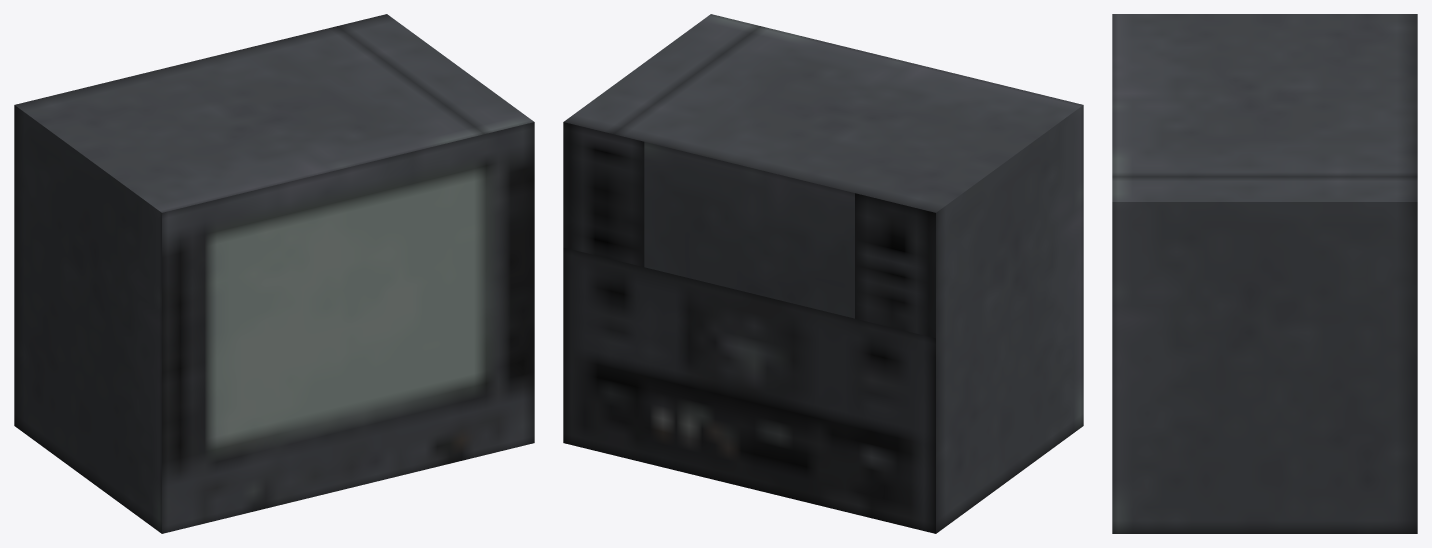
The picture shows the model from 3 angles, left to right: view 1: azimuth 30°, elevation 25°; view 2: azimuth 150°, elevation 25°; view 3: azimuth 270°, elevation 25°; orthographic projection. The views are drawn at different scales.
Visible parts, largest first — view 1: SM_EC_TV_0; view 2: SM_EC_TV_0; view 3: SM_EC_TV_0.
Part boxes in pixels (bbox=[...]): SM_EC_TV_0: bbox=[14, 14, 534, 533]; SM_EC_TV_0: bbox=[563, 14, 1083, 533]; SM_EC_TV_0: bbox=[1112, 14, 1417, 533].
Bounding box in the file's own units: 0.9513 × 0.6526 × 0.7833.
